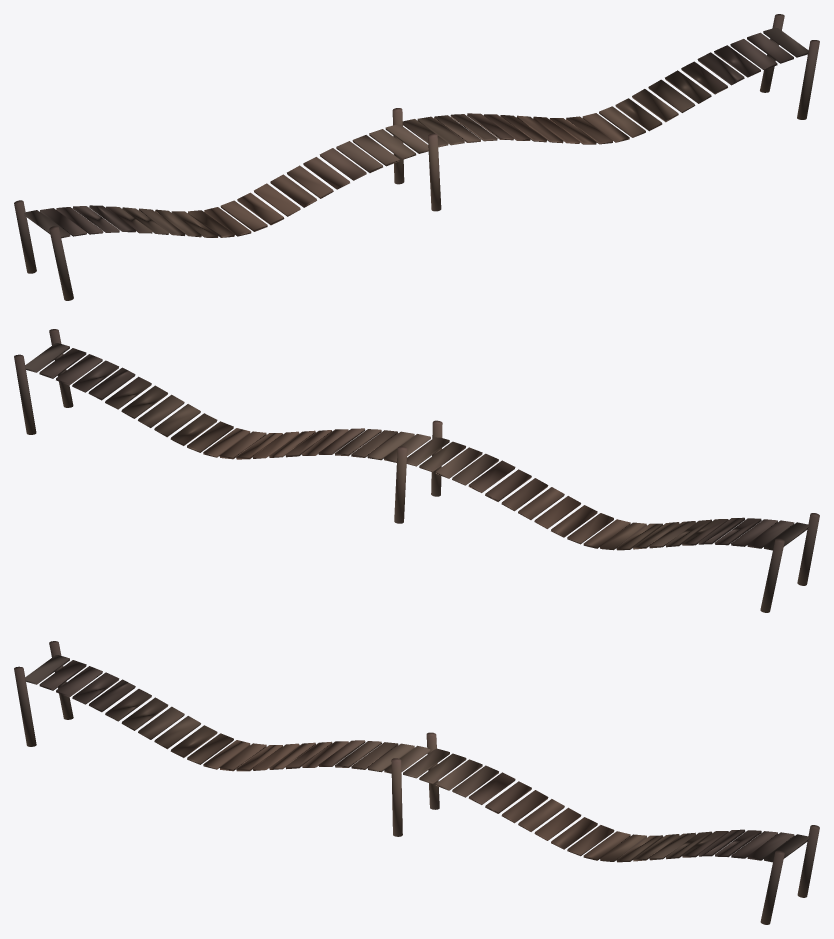
The model's file is WoodenWavyBridge.glb.
The picture shows the model from 3 angles, top to bottom: view 1: azimuth 30°, elevation 25°; view 2: azimuth 150°, elevation 25°; view 3: azimuth 330°, elevation 25°; orthographic projection.
Parts seen in each view (by area): view 1: WoodenWavyBridge; view 2: WoodenWavyBridge; view 3: WoodenWavyBridge.
Part boxes in pixels (x1,y1,x2,y2): WoodenWavyBridge: (14,14,819,300); WoodenWavyBridge: (14,329,819,612); WoodenWavyBridge: (14,641,819,924).
Size of the model in its own units: 17.83 by 1.64 by 1.73.
Materials: 1 (1 with a texture image).
